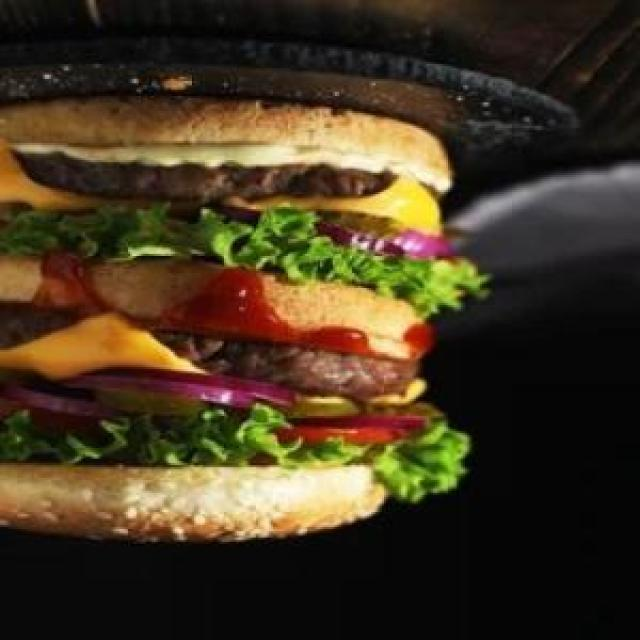Burger: (1, 94, 490, 546)
